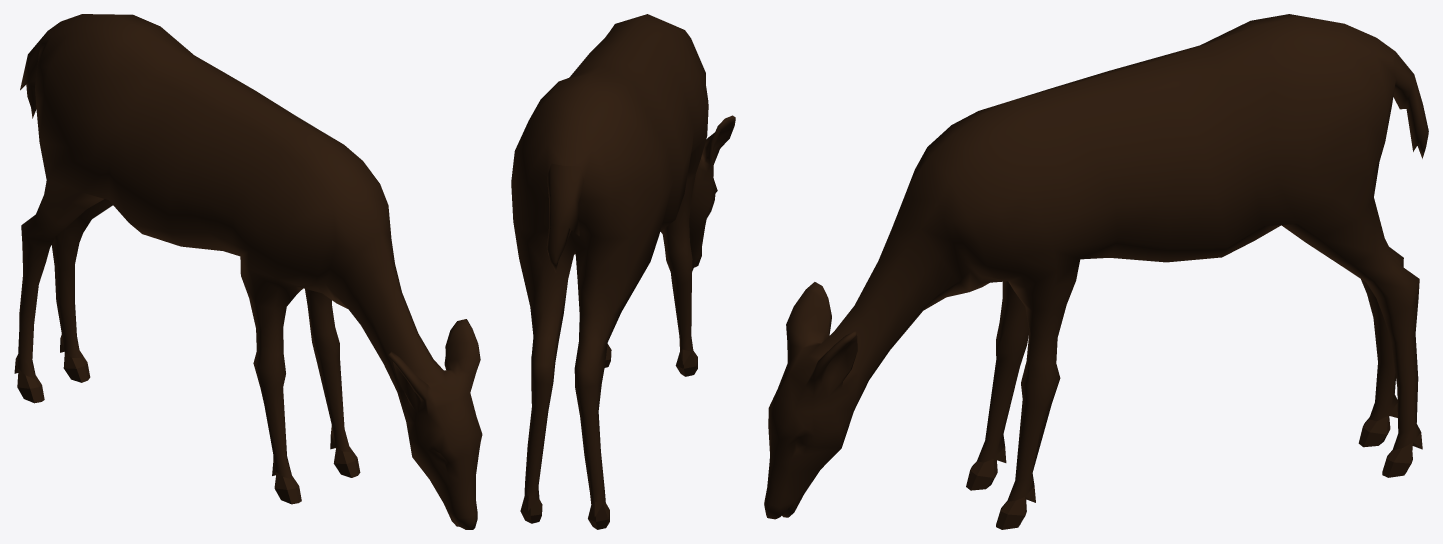
File: Deer_Mom.FBX
3 renders of one model, left to right at view 1: azimuth 30°, elevation 25°; view 2: azimuth 150°, elevation 25°; view 3: azimuth 270°, elevation 25°, orthographic. The views are drawn at different scales.
Parts seen in each view (by area): view 1: Deer_Mom; view 2: Deer_Mom; view 3: Deer_Mom.
Boxes of the visible parts, left/top/right/bottom form: Deer_Mom: left=14, top=14, right=482, bottom=529; Deer_Mom: left=511, top=14, right=735, bottom=529; Deer_Mom: left=764, top=14, right=1428, bottom=529.
Bounding box in the file's own units: 3.45 × 5.94 × 7.9.
